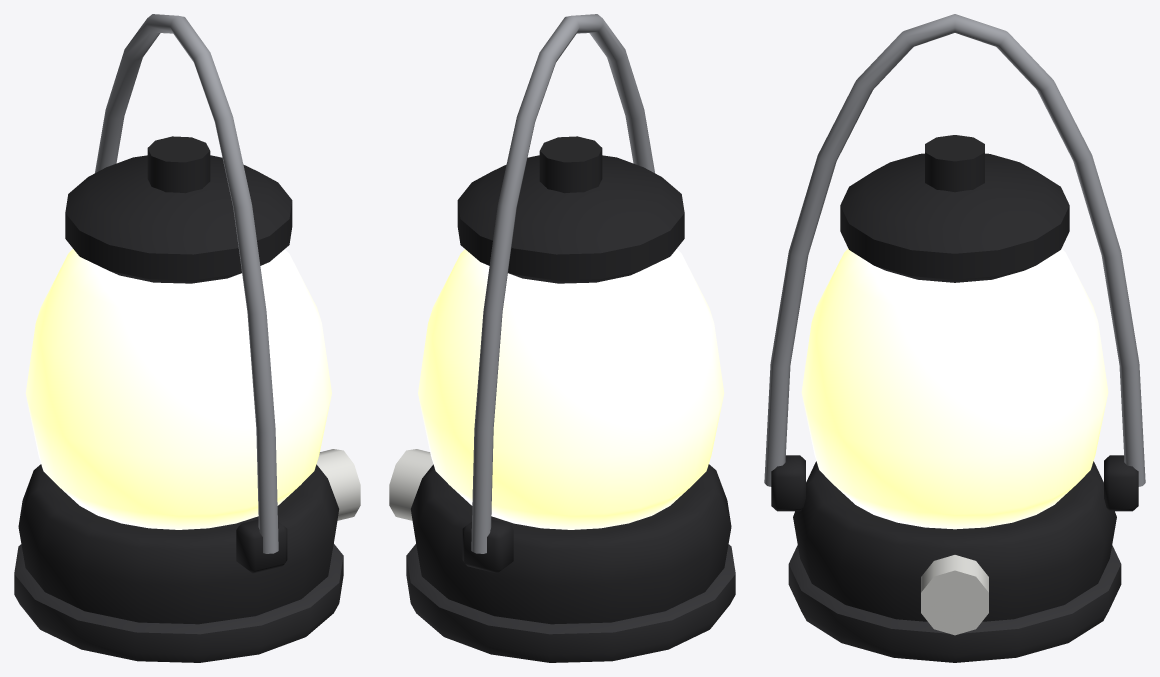
The model's file is led-lantern.glb.
3 renders of one model, left to right at view 1: azimuth 30°, elevation 25°; view 2: azimuth 150°, elevation 25°; view 3: azimuth 270°, elevation 25°, orthographic.
Visible parts, largest first — view 1: SM_Jam_LedLantern; view 2: SM_Jam_LedLantern; view 3: SM_Jam_LedLantern.
Boxes of the visible parts, bbox=[...] form: SM_Jam_LedLantern: bbox=[14, 14, 360, 662]; SM_Jam_LedLantern: bbox=[389, 14, 735, 662]; SM_Jam_LedLantern: bbox=[764, 14, 1145, 662].
Size of the model in its own units: 0.1245 by 0.2235 by 0.133.
